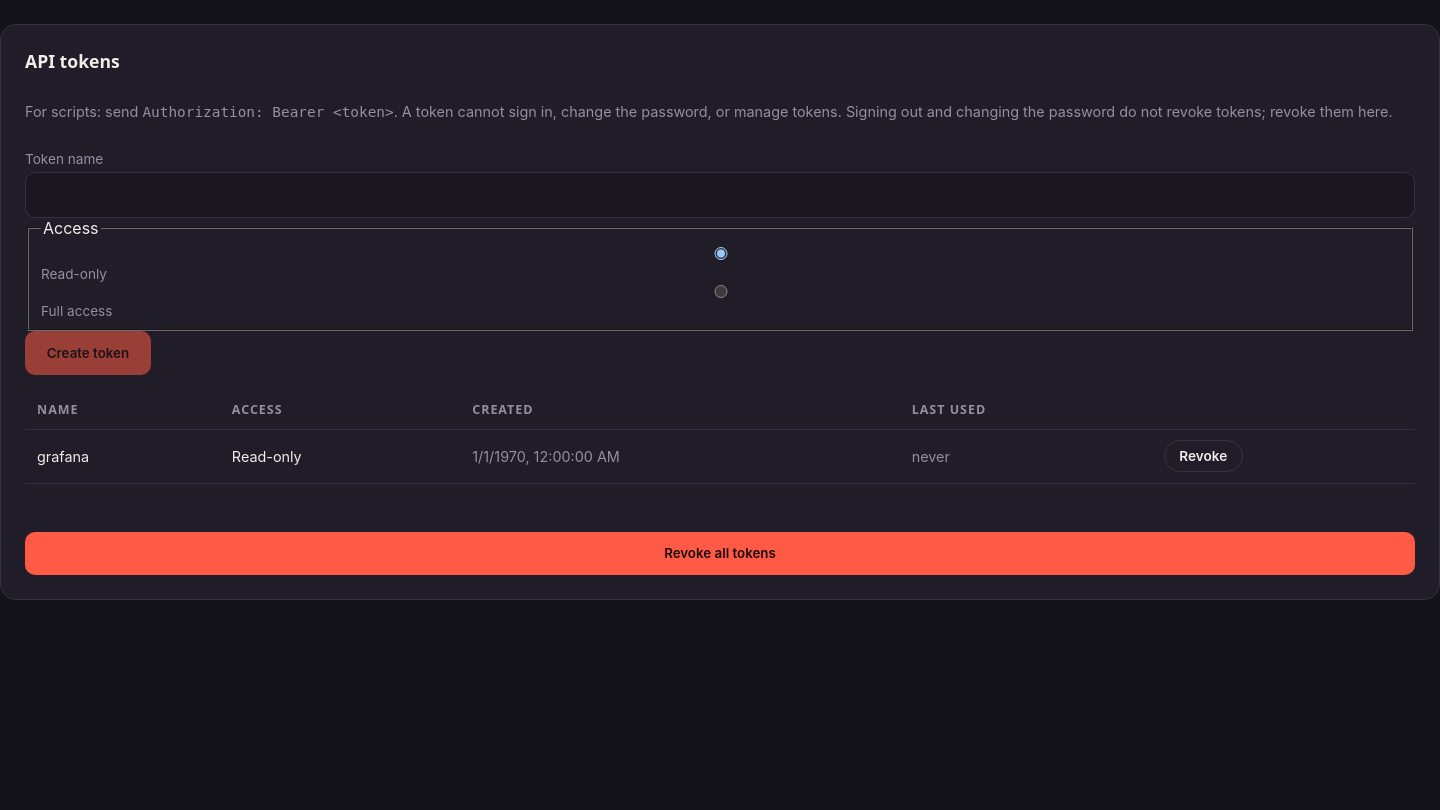
ApiTokens › revokes one token only after an inline confirm
The width and height of the screenshot is (1440, 810).
Step 1. Click the button "Revoke" → (1203, 456), box [1164, 440, 1243, 472]
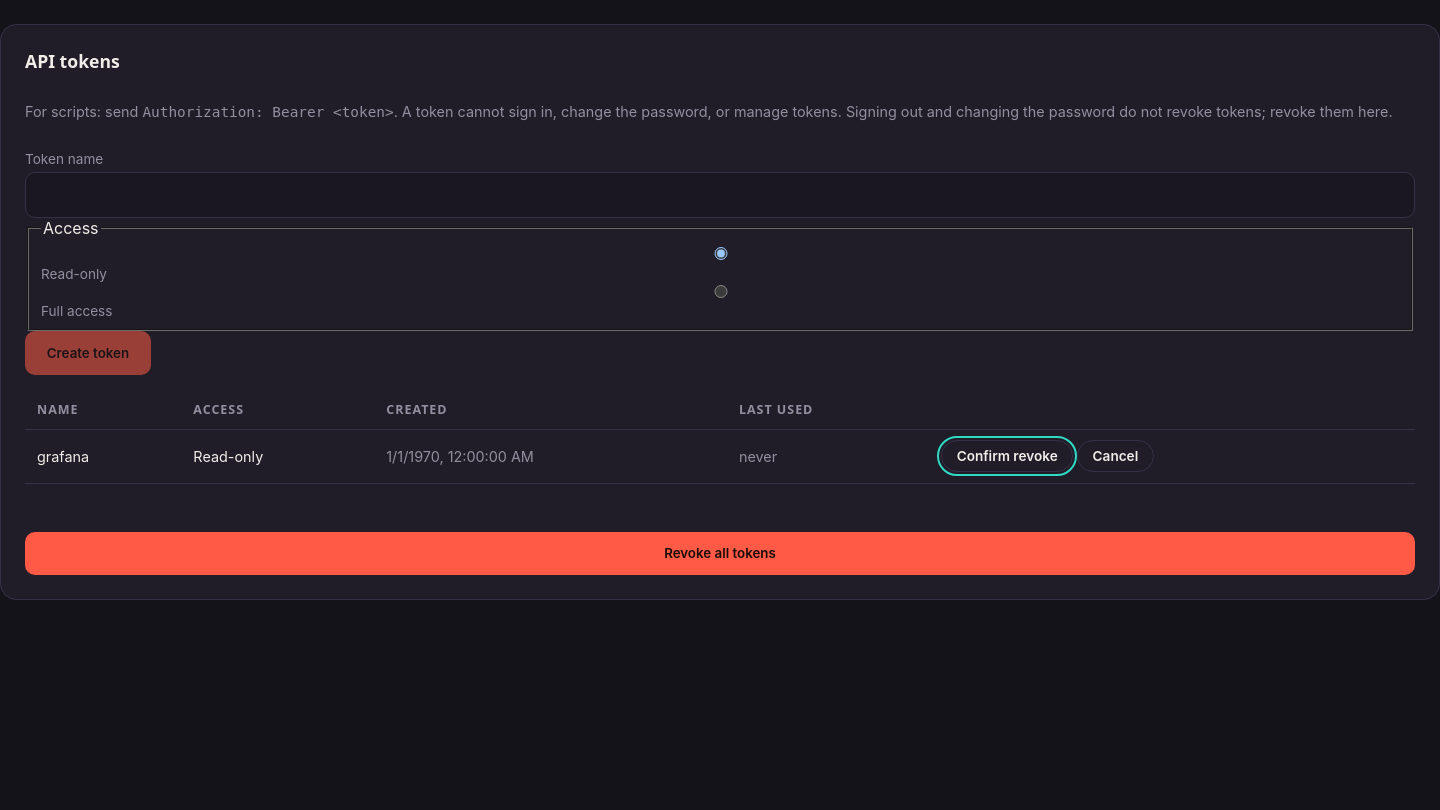
Step 2. Click the button "Cancel" → (1115, 456), box [1077, 440, 1154, 472]
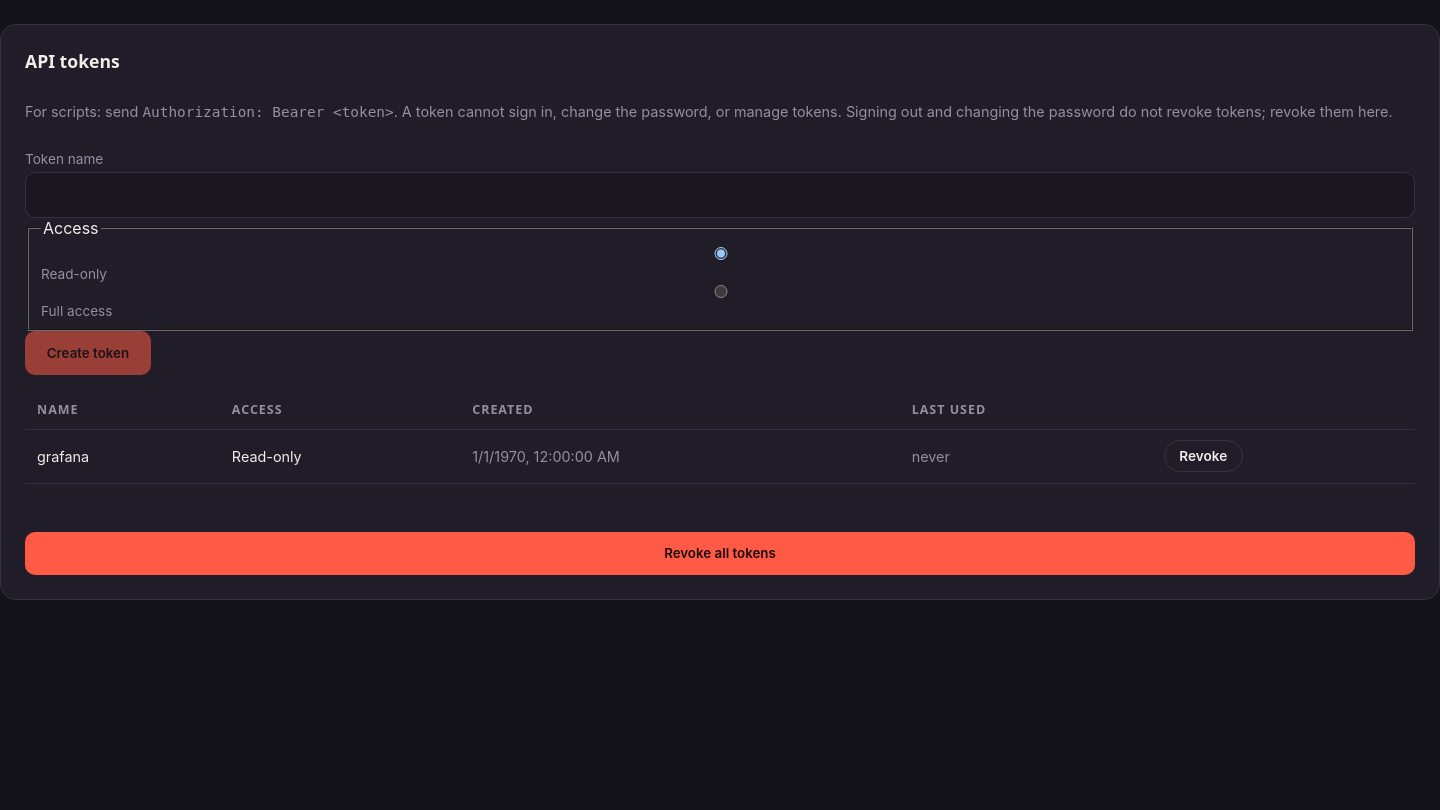
Step 3. Click the button "Revoke" → (1203, 456), box [1164, 440, 1243, 472]
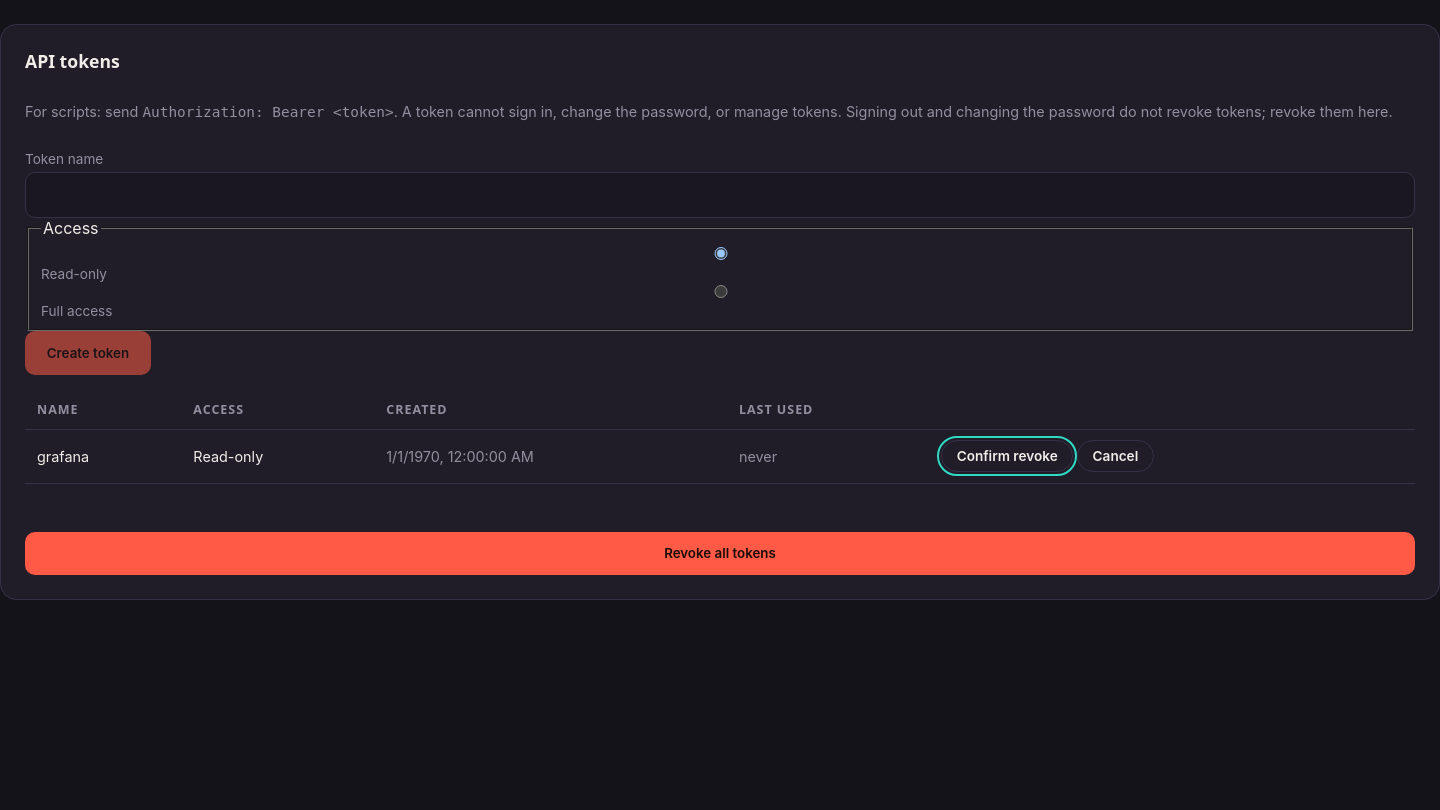
Step 4. Click the button "Confirm revoke" → (1007, 456), box [941, 440, 1073, 472]
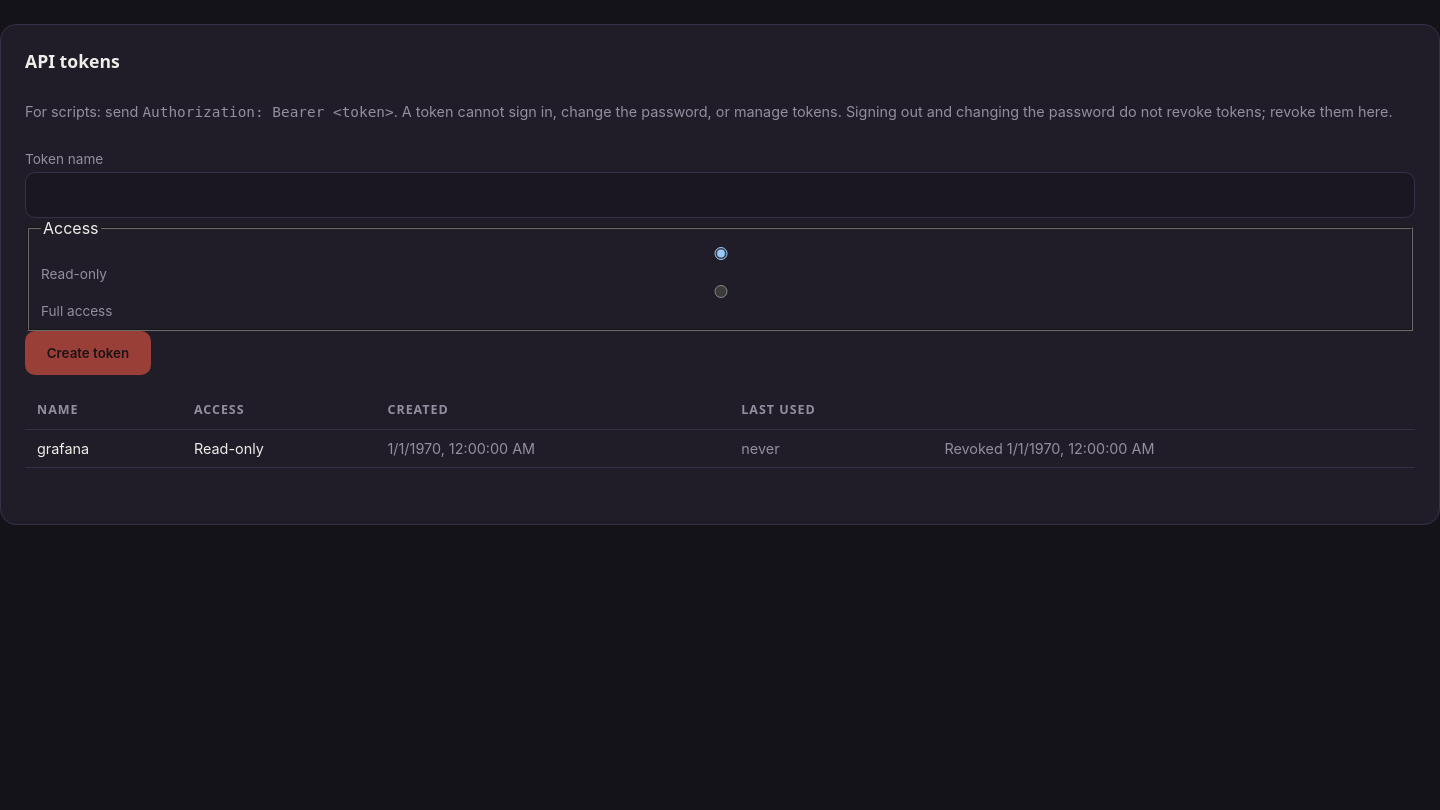
Result: the text "Revoked 1/1/1970, 12:00:00 AM" is shown at [944, 440, 1154, 457]
